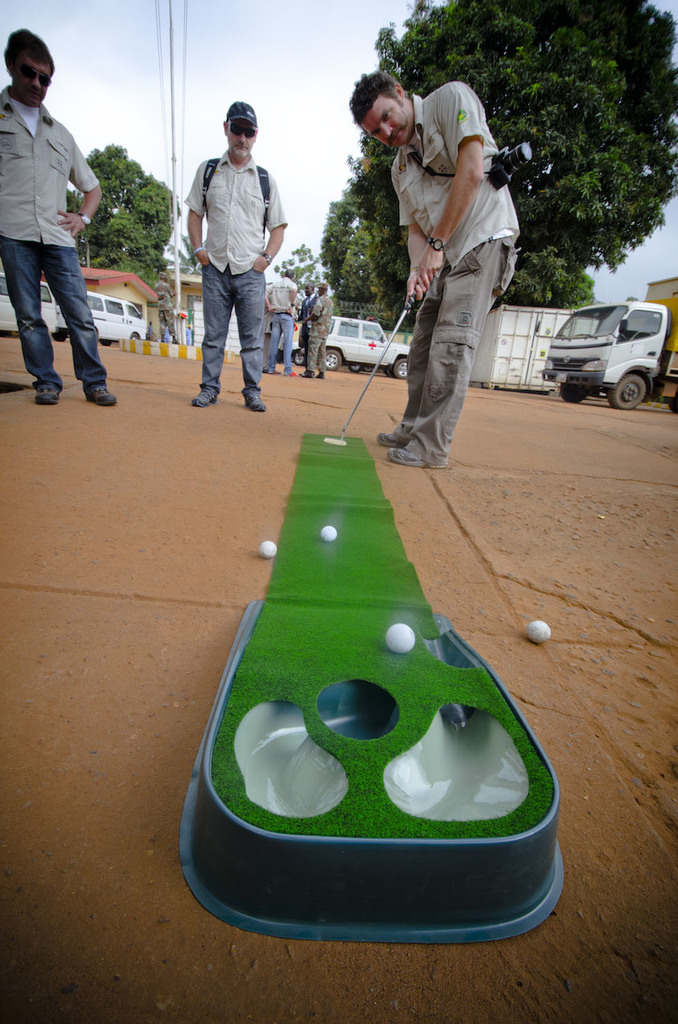Tree: (65, 0, 678, 333)
